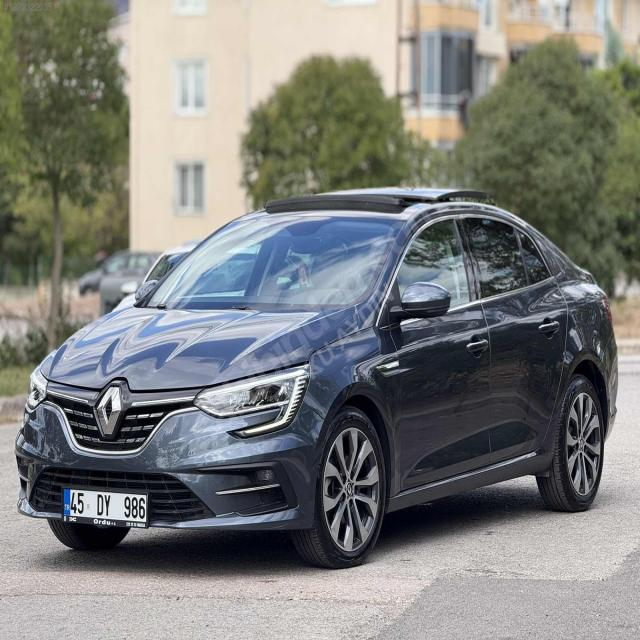renault: (95, 380, 123, 441)
